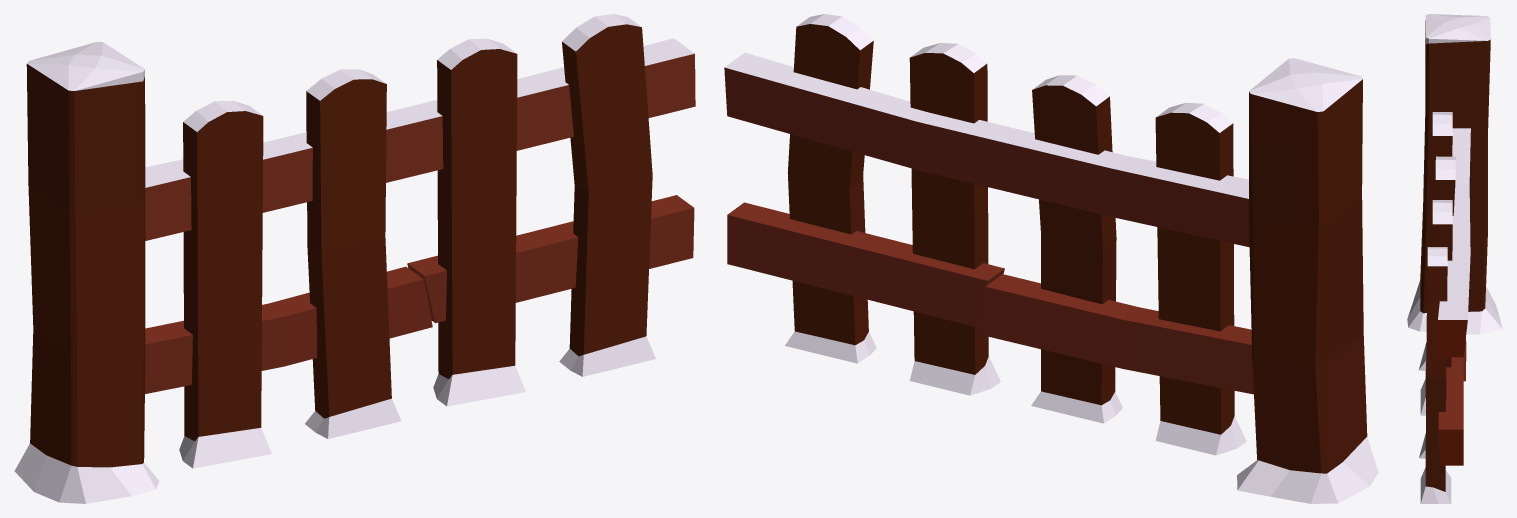
The model's file is lowbar-snow-33.glb.
The picture shows the model from 3 angles, left to right: view 1: azimuth 30°, elevation 25°; view 2: azimuth 150°, elevation 25°; view 3: azimuth 270°, elevation 25°; orthographic projection. The views are drawn at different scales.
Visible parts, largest first — view 1: piece; view 2: piece; view 3: piece.
Boxes of the visible parts, x1,y1,x2,y2 form: piece: (14,14,695,503); piece: (724,14,1378,503); piece: (1407,14,1502,503).
Size of the model in its own units: 1.2 by 0.7226 by 0.2133.
1 material, 1 textured.
